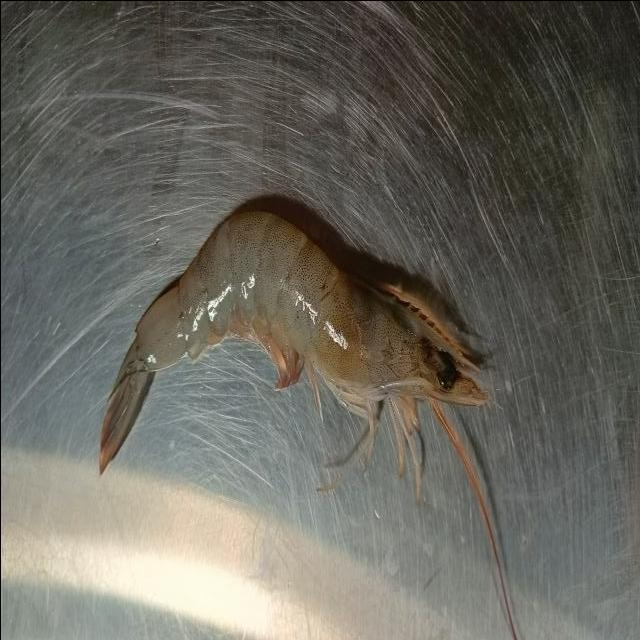shrimp: (98, 205, 488, 478)
